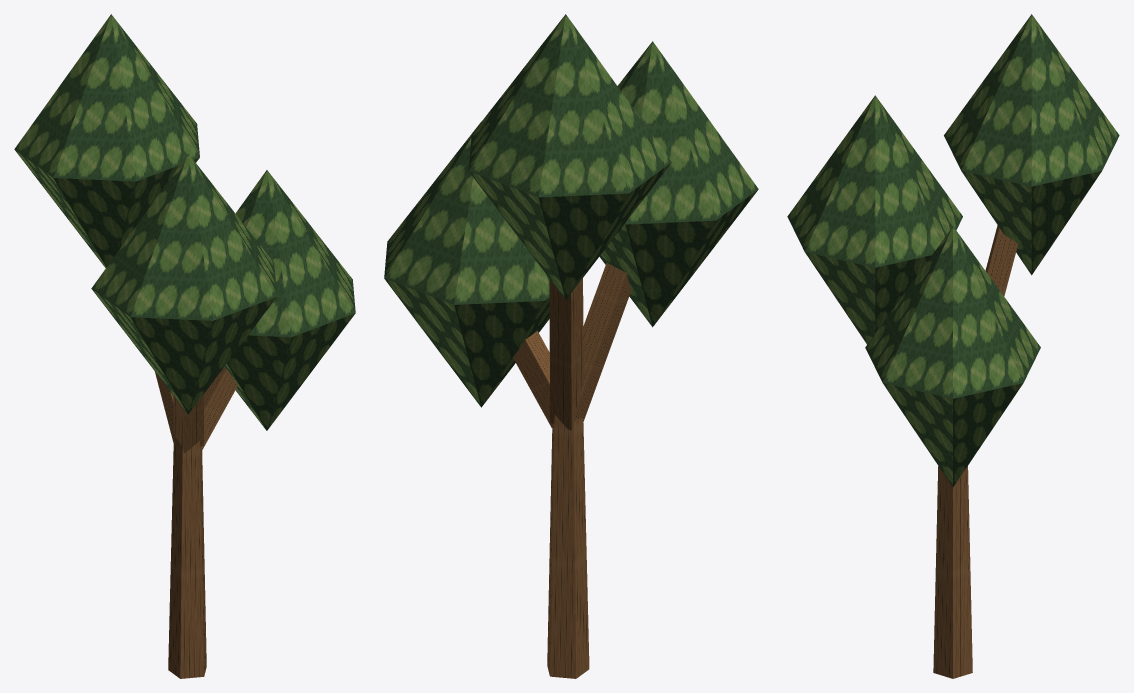
Rendered from tree-upland-lod0.glb.
3 renders of one model, left to right at view 1: azimuth 30°, elevation 25°; view 2: azimuth 150°, elevation 25°; view 3: azimuth 270°, elevation 25°, orthographic. The views are drawn at different scales.
Bounding box in the file's own units: 0.3596 × 0.78 × 0.3685.
Materials: 1 (1 with a texture image).
